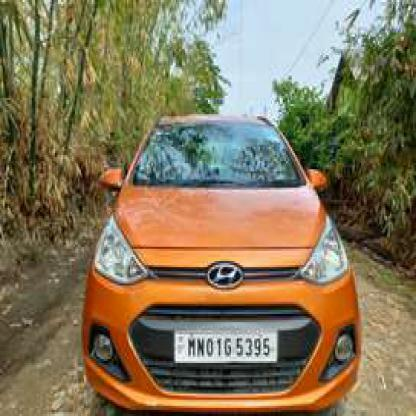license_plate: (172, 328, 276, 361)
